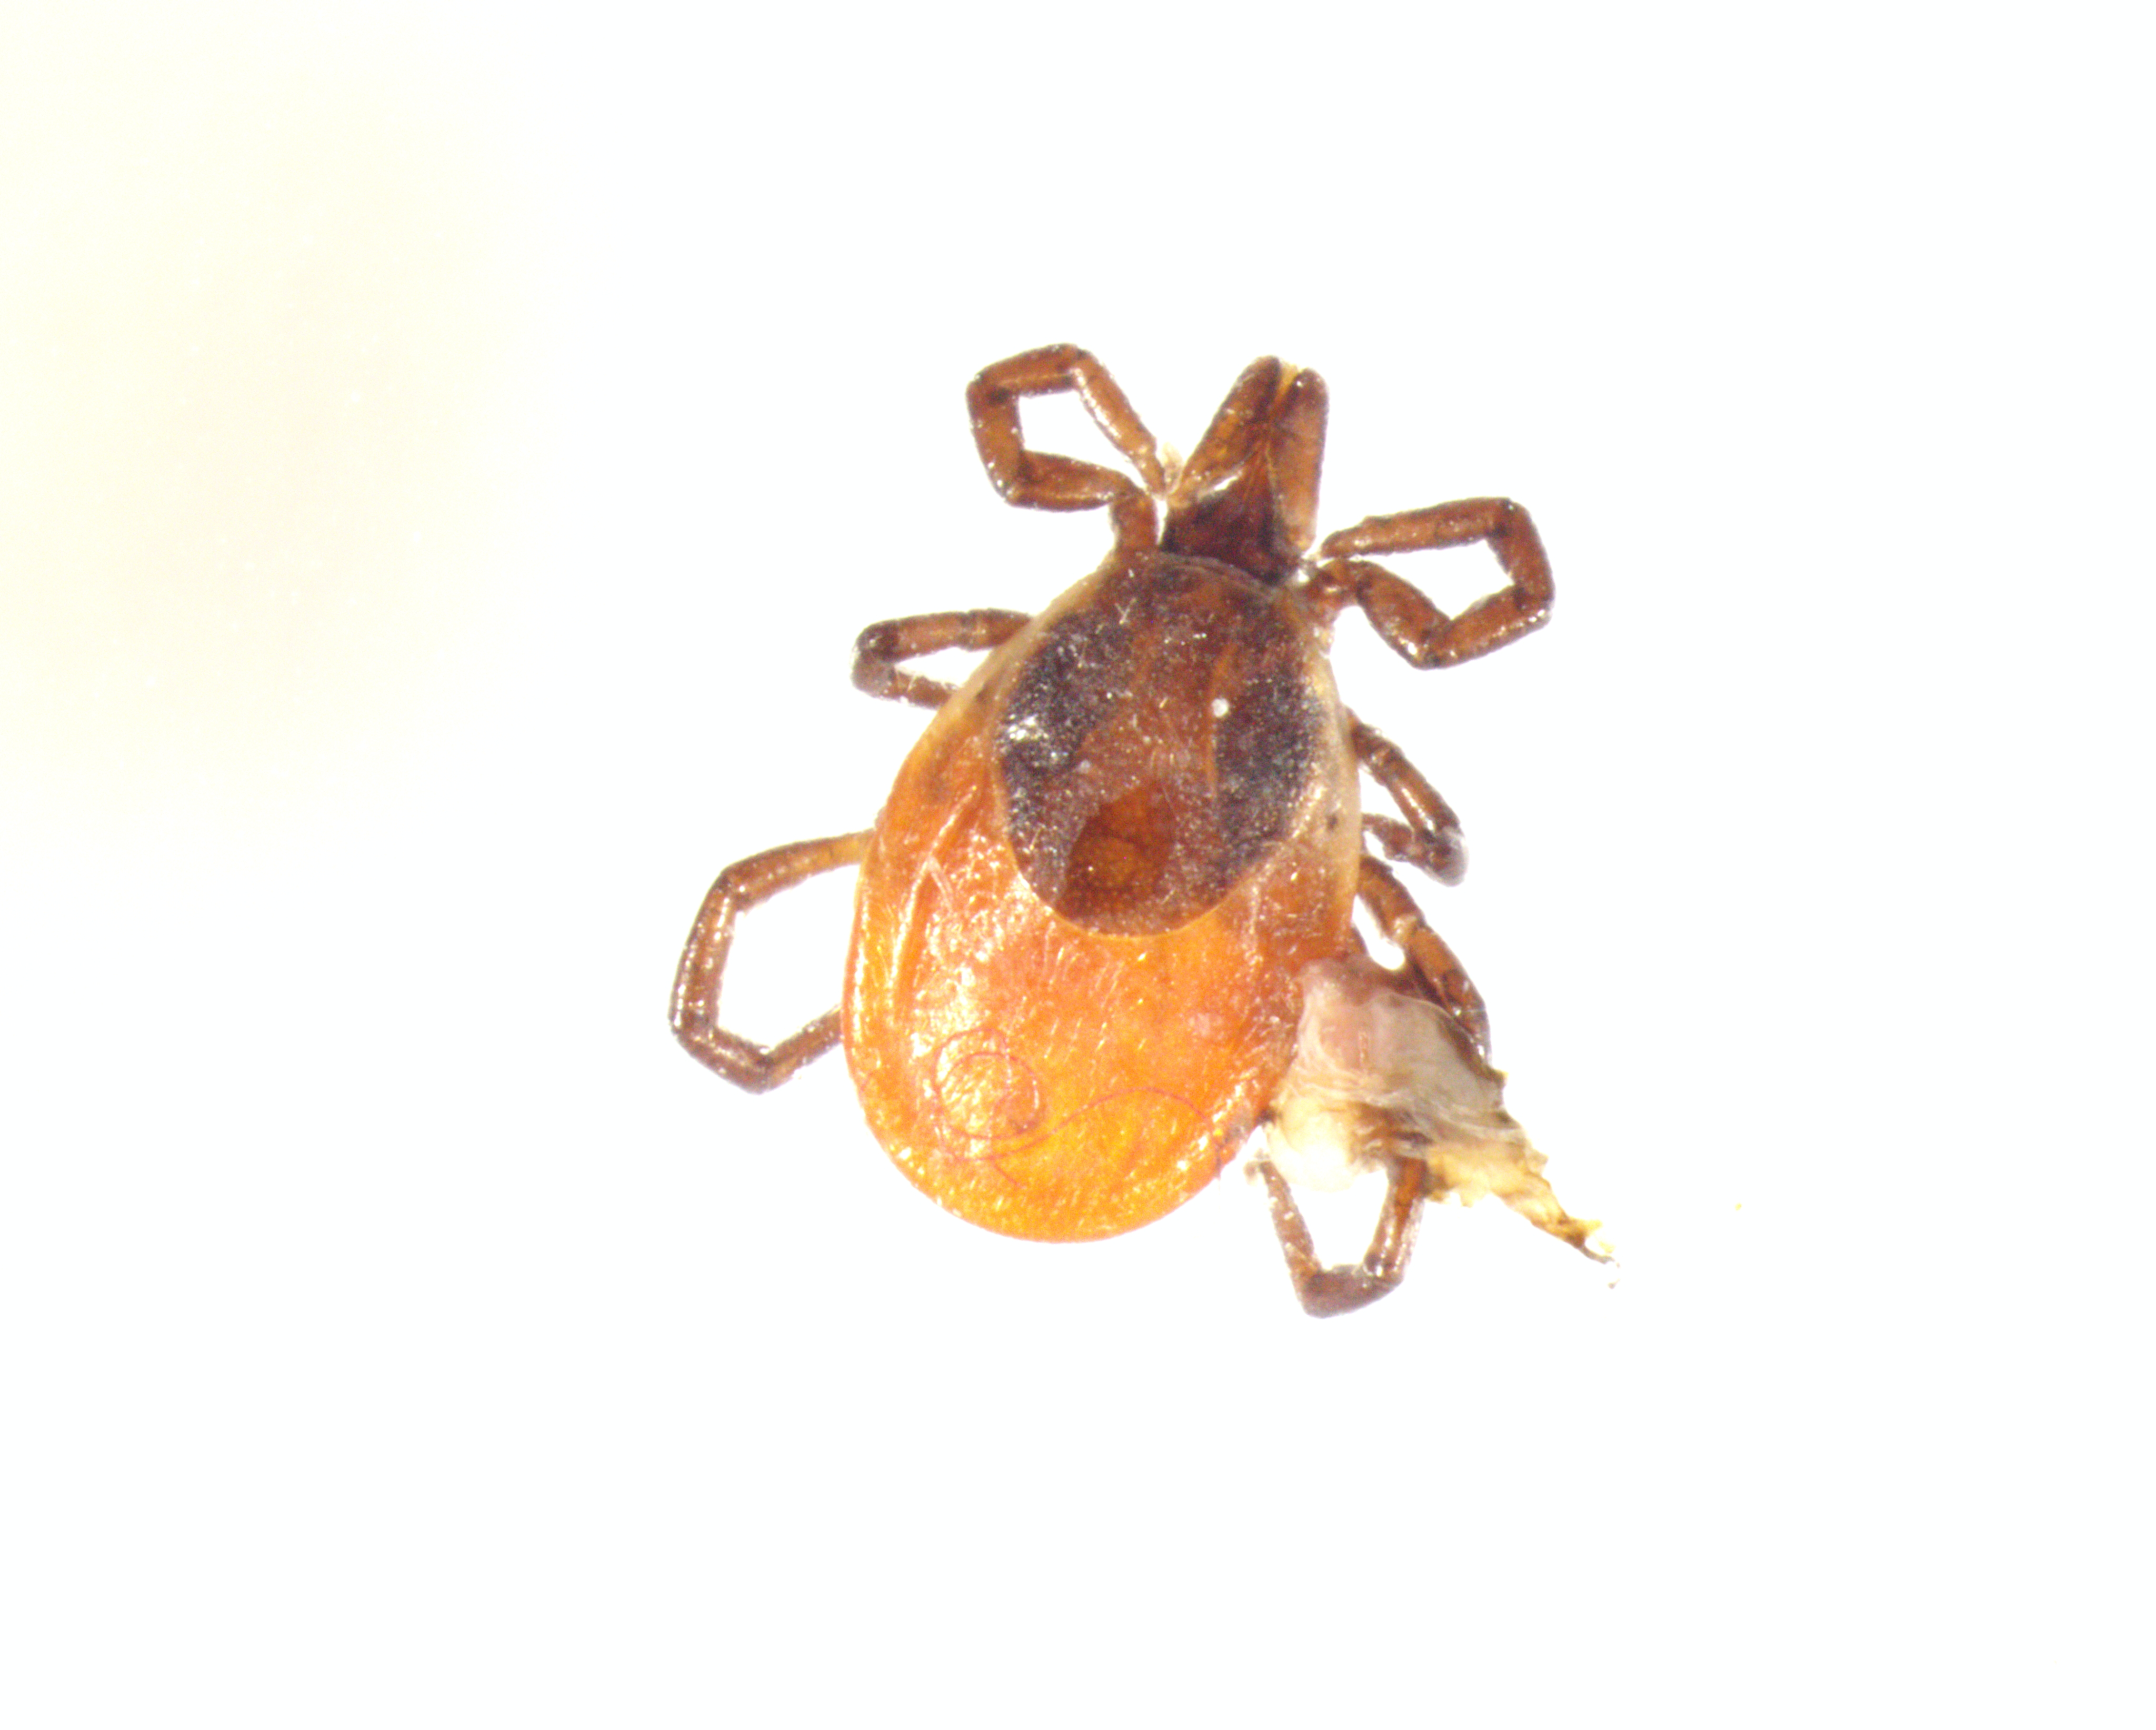unlabelled_tick: (626, 304, 1649, 1328)
